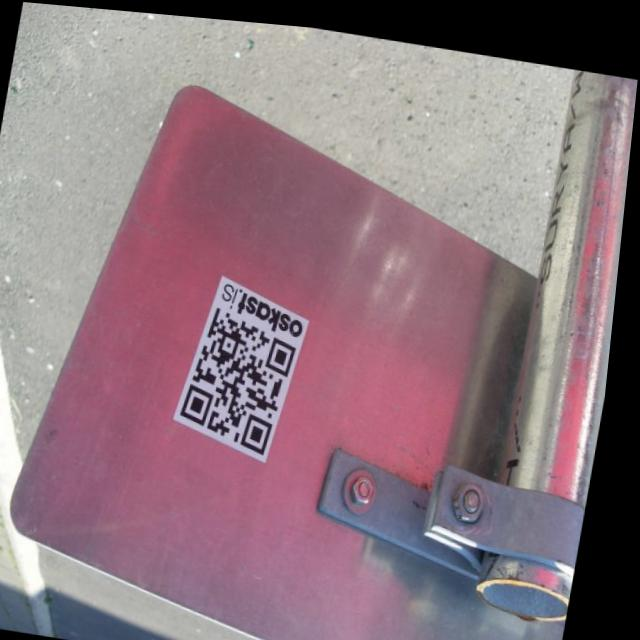qrcode: (184, 299, 308, 452)
